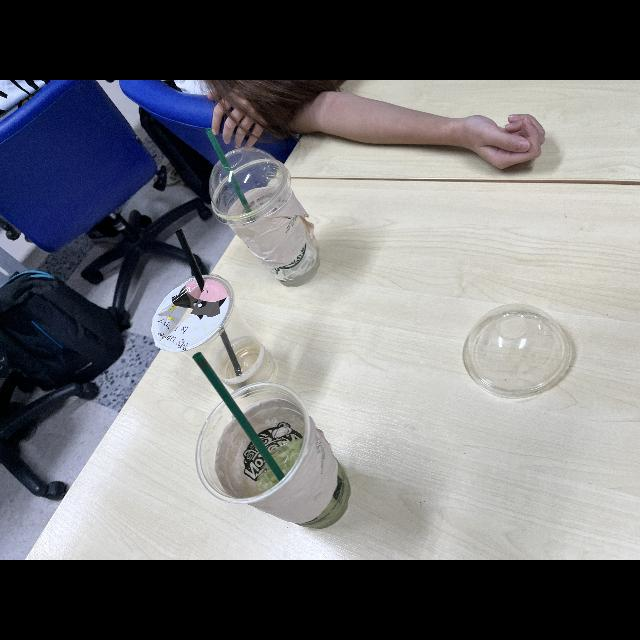plastic_cup: (192, 384, 358, 532), (150, 272, 280, 396), (209, 158, 325, 288)
plastic_cup_lid: (455, 298, 588, 400), (208, 148, 290, 221)
straw: (192, 352, 287, 483), (175, 231, 243, 374), (205, 126, 258, 226)
